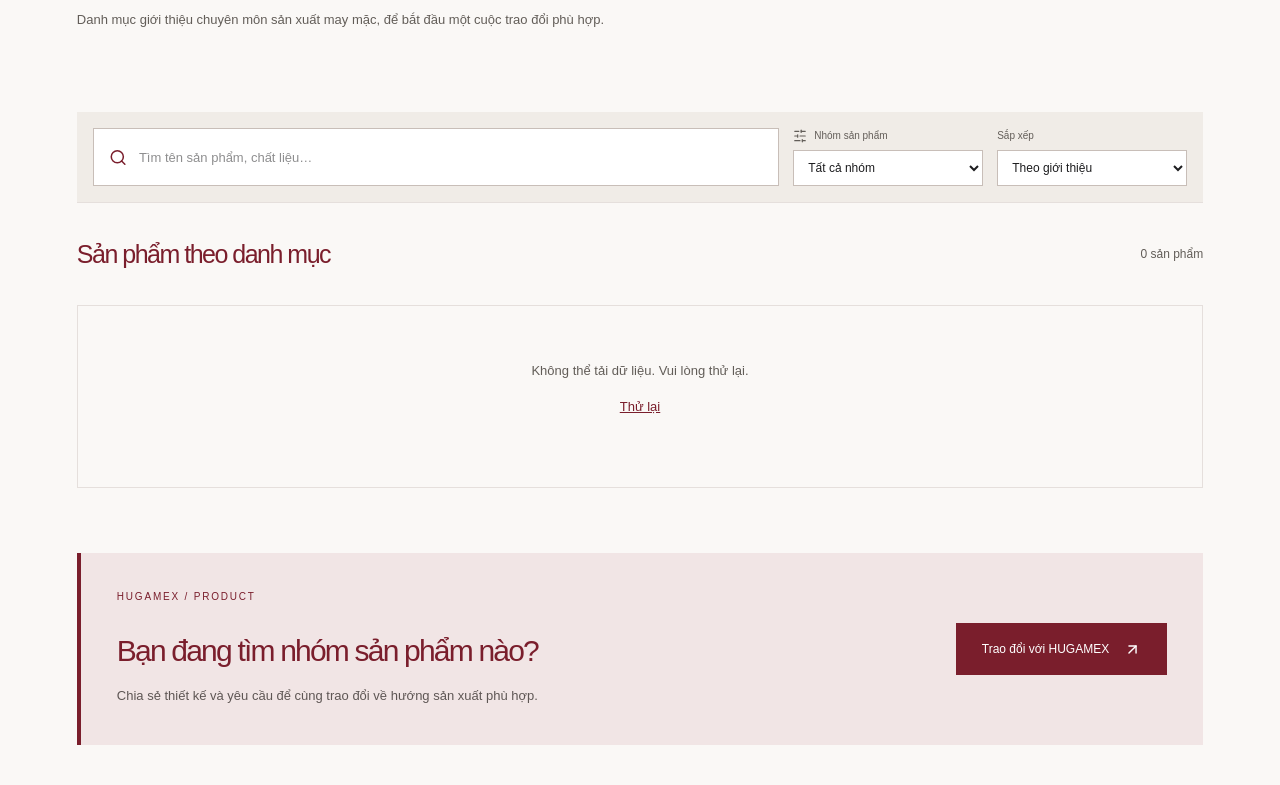
Scenario: Public journeys › shows API failure and can retry
The image size is (1280, 785).
(page scrolled)
Expected: the message "Không thể tải dữ liệu. Vui lòng thử lại. Thử lại" is shown, x1=77 y1=305 x2=1203 y2=488
Click the button "Thử lại".
click(640, 406)  # box x1=620 y1=397 x2=660 y2=416
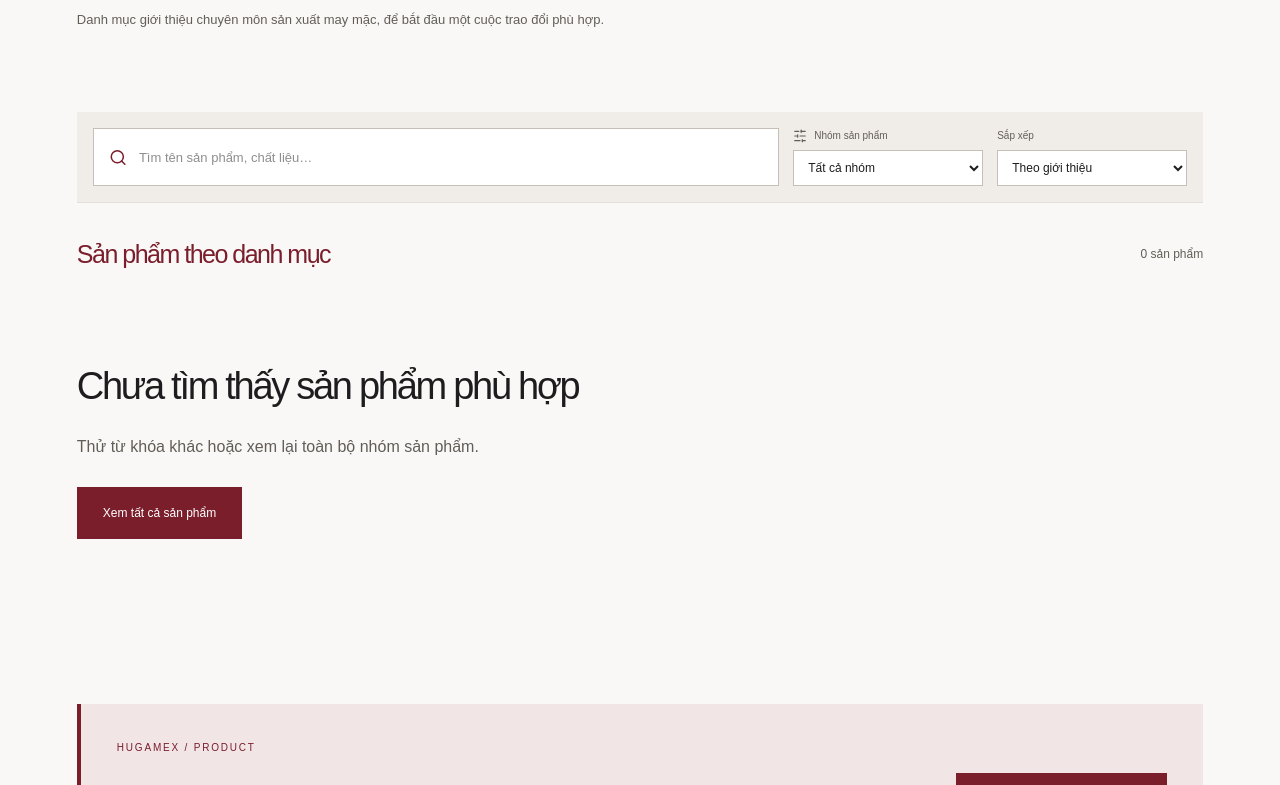
Now the message "Không thể tải dữ liệu. Vui lòng thử lại. Thử lại" is gone
